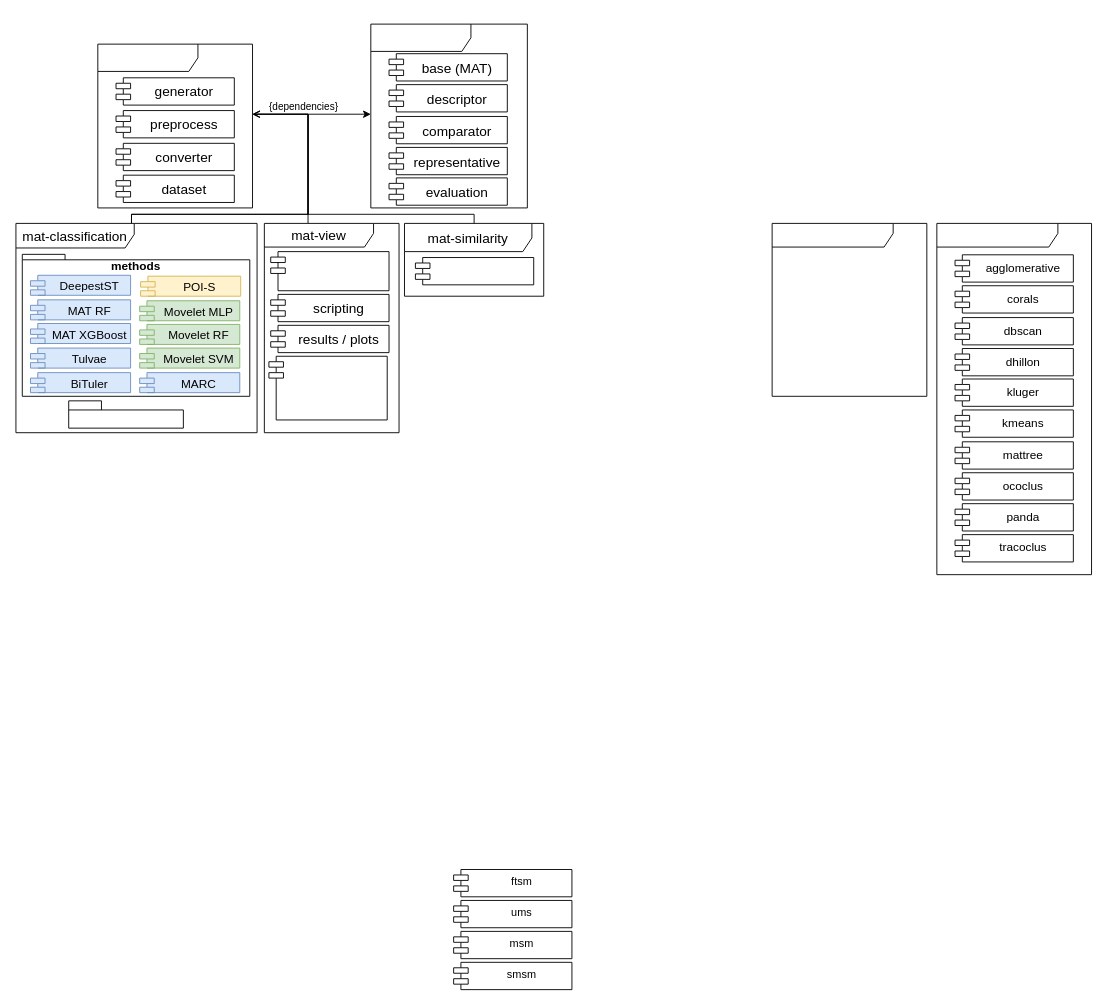
This 1107x1006 diagram has some shape labels left out. The box of each missing label's shape, as (x1, y1, x2, y2) in pixels:
mat-clustering: (936, 222, 1092, 575)
mat-data: (97, 43, 253, 208)
mat-model: (370, 23, 527, 208)
mat-summarization: (771, 222, 927, 396)
Movelet view / graphics: (270, 251, 389, 291)
MUITAS: (415, 257, 534, 285)
scripts: (68, 400, 183, 428)
web-app - Movelets & MAT - Datasets - Pages: (268, 355, 387, 420)
